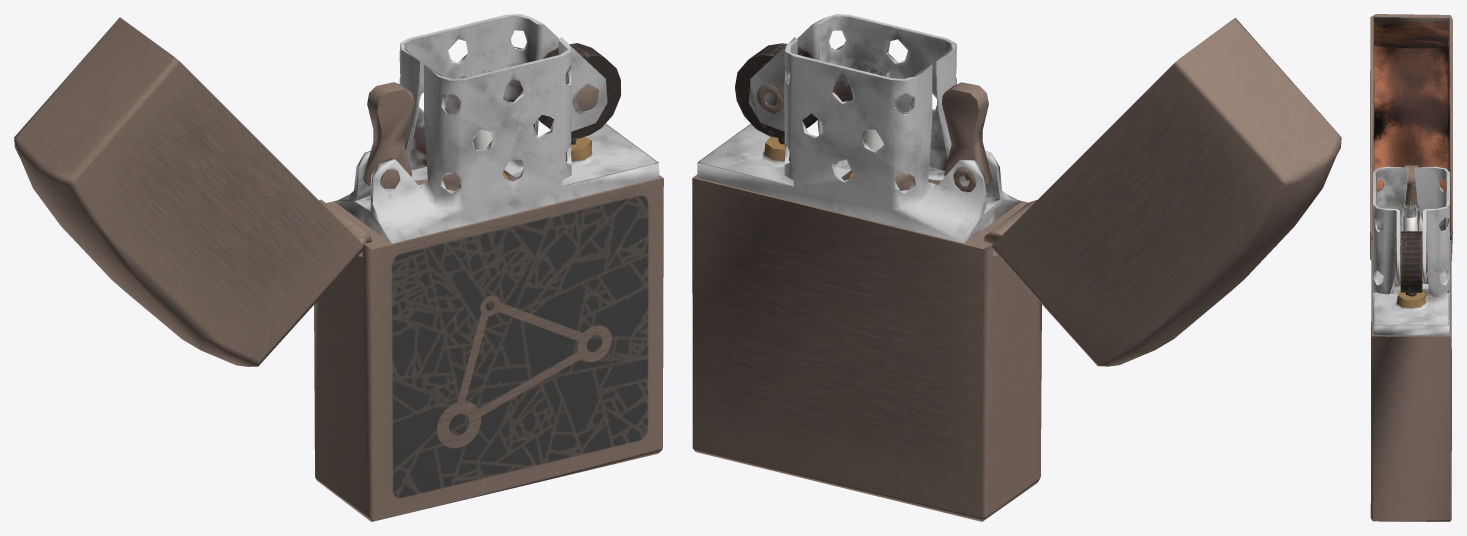
Rendered from vintage_lighter.glb.
3 views of the same model, side by side, from view 1: azimuth 30°, elevation 25°; view 2: azimuth 150°, elevation 25°; view 3: azimuth 270°, elevation 25° (orthographic). The views are drawn at different scales.
Parts seen in each view (by area): view 1: vintage_lighter_body, vintage_lighter_hinge, vintage_lighter_hammer, vintage_lighter_flintstone; view 2: vintage_lighter_body, vintage_lighter_hinge, vintage_lighter_hammer, vintage_lighter_flintstone; view 3: vintage_lighter_body, vintage_lighter_hinge, vintage_lighter_flintstone, vintage_lighter_hammer.
Part boxes in pixels (x1,y1,x2,y2): vintage_lighter_body: [314, 14, 663, 521]; vintage_lighter_hinge: [14, 17, 371, 366]; vintage_lighter_hammer: [363, 82, 414, 188]; vintage_lighter_flintstone: [538, 43, 621, 138]; vintage_lighter_body: [692, 14, 1041, 521]; vintage_lighter_hinge: [984, 18, 1341, 366]; vintage_lighter_hammer: [942, 82, 992, 192]; vintage_lighter_flintstone: [735, 43, 817, 138]; vintage_lighter_body: [1370, 166, 1451, 521]; vintage_lighter_hinge: [1370, 14, 1452, 260]; vintage_lighter_flintstone: [1395, 231, 1427, 292]; vintage_lighter_hammer: [1404, 165, 1418, 230].
Size of the model in its own units: 0.0795 by 0.0649 by 0.014.
Materials: 2 (2 with a texture image).
